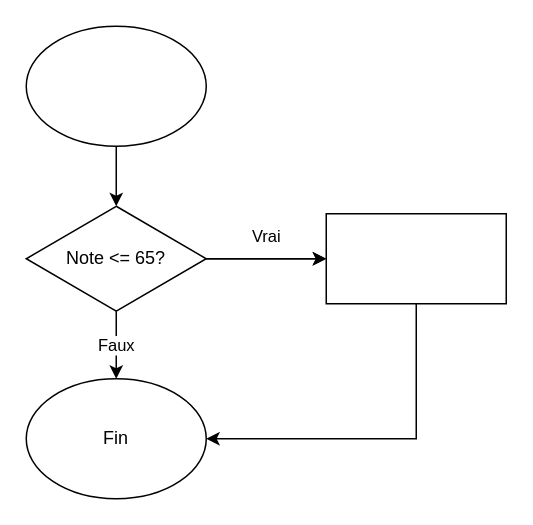
Image size: 533x525. Some labels were removed from this diagram. Here are the shapes that lost their labels. From the top down, the centre of each, then its label:
pixel 115 85: Début
pixel 415 258: Afficher "Attention étudiant à risque"
